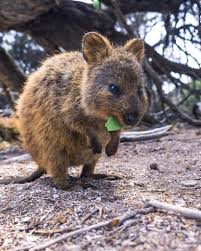quokka: (0, 19, 159, 195)
